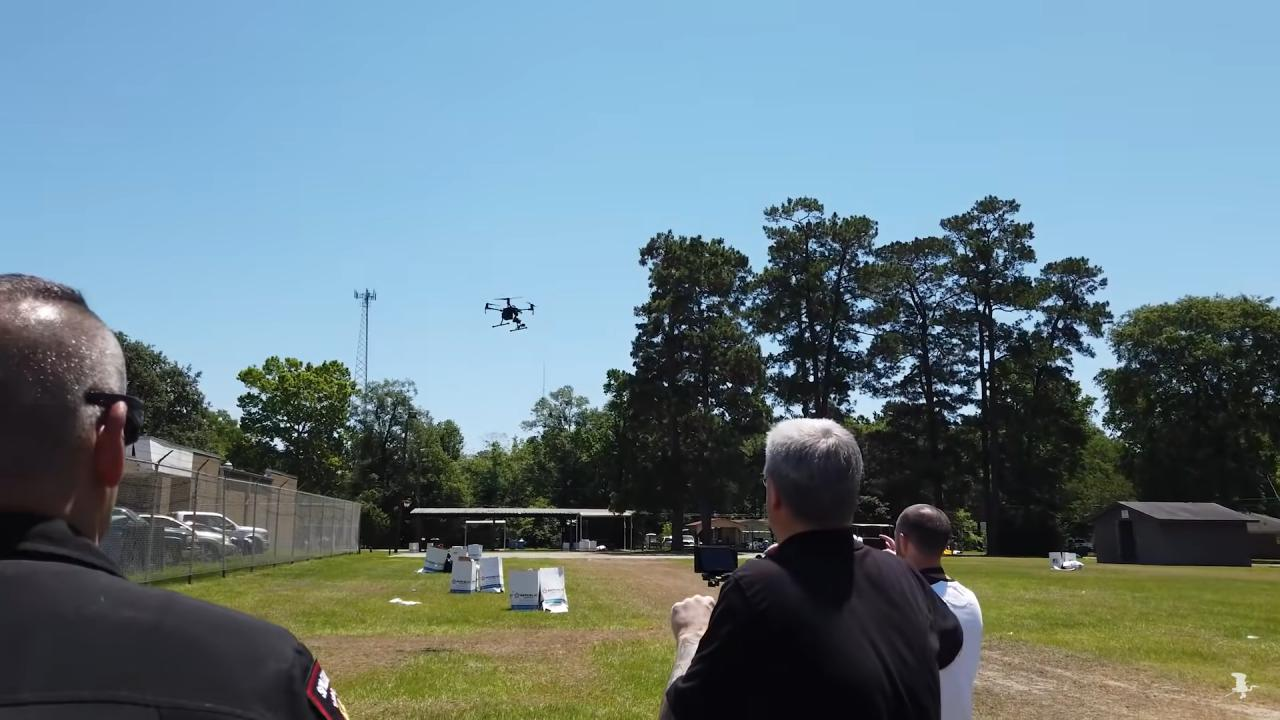Drone: (476, 288, 547, 341)
